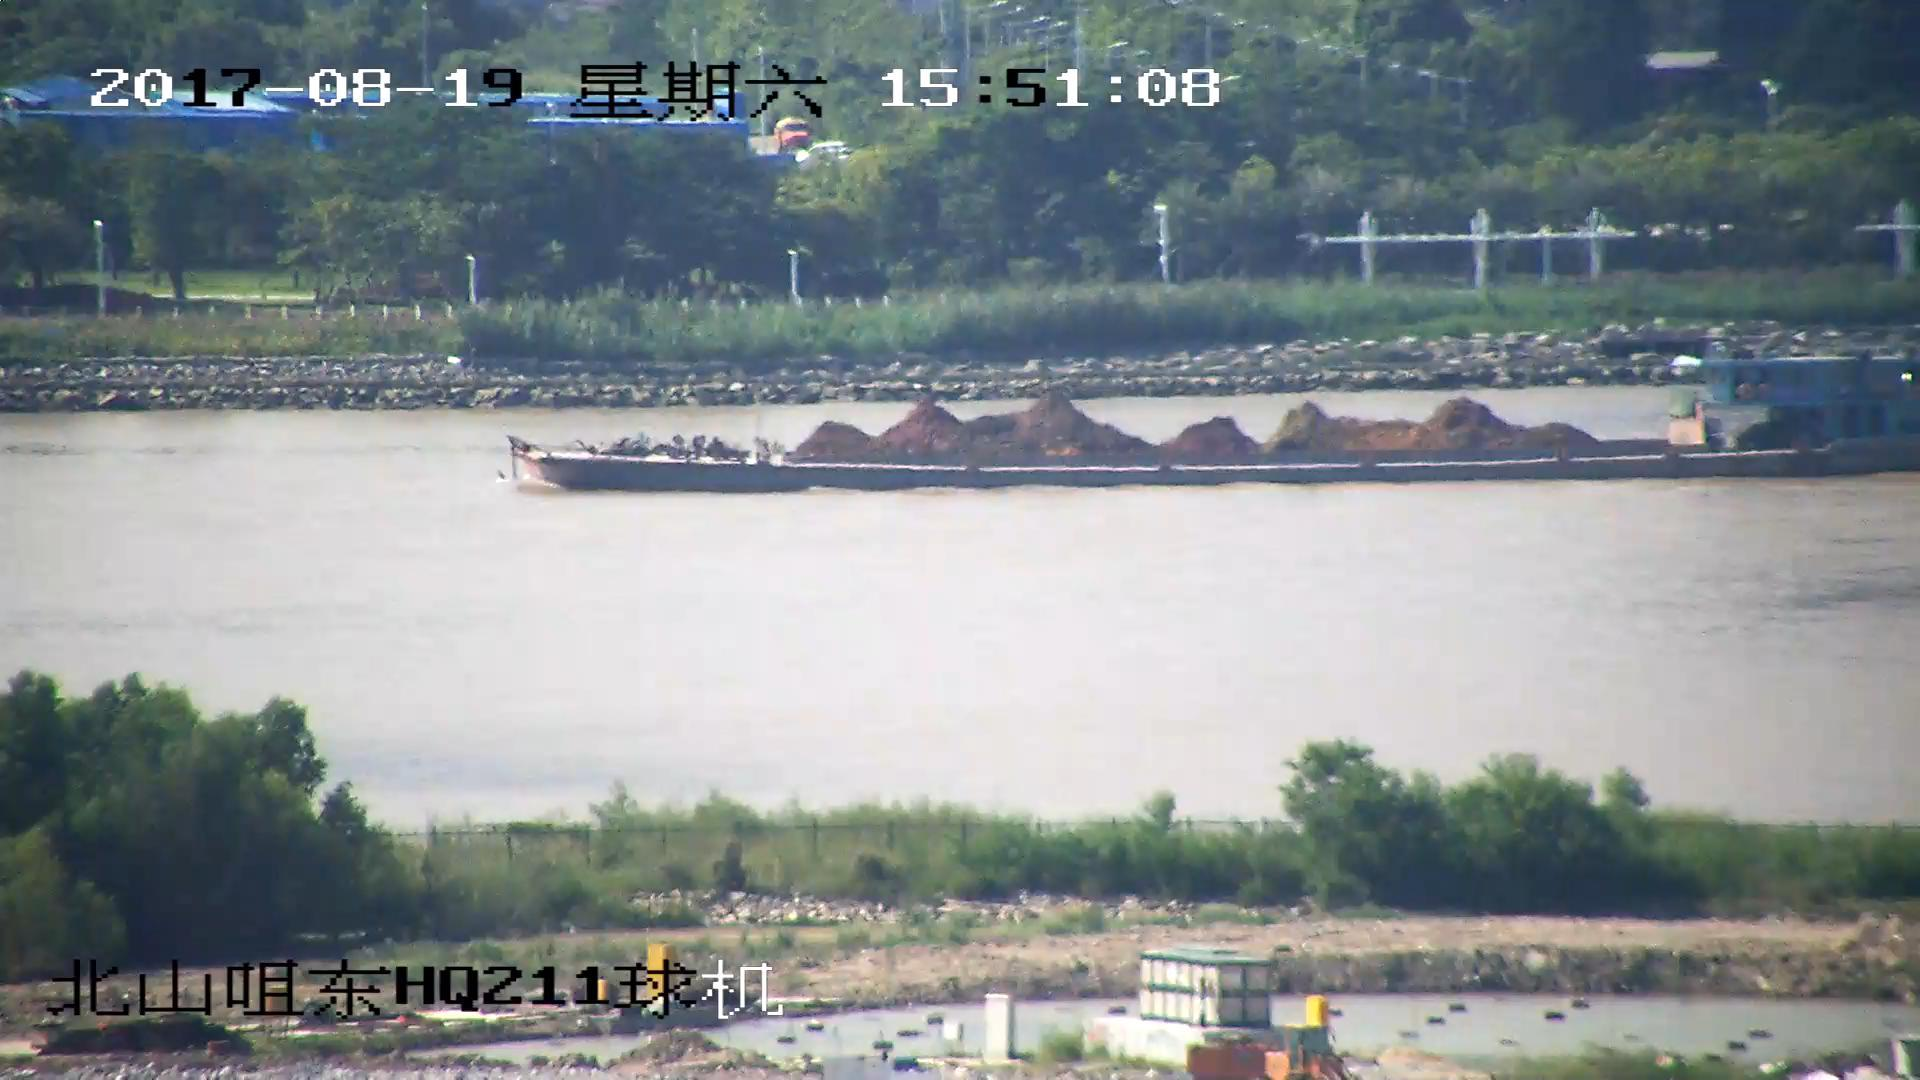Ship: (502, 361, 1920, 495)
